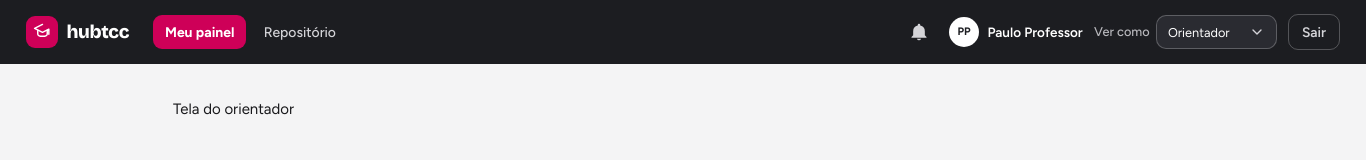
Test case: fluxo de autenticação › com vários papéis, troca de tela pelo seletor e lembra a escolha
Expected: the text "Tela do orientador" is shown, [173,100,294,118]
Select "Coordenação" in the dropdown labelled "Ver como" at (1217, 32), box [1156,15,1277,49]
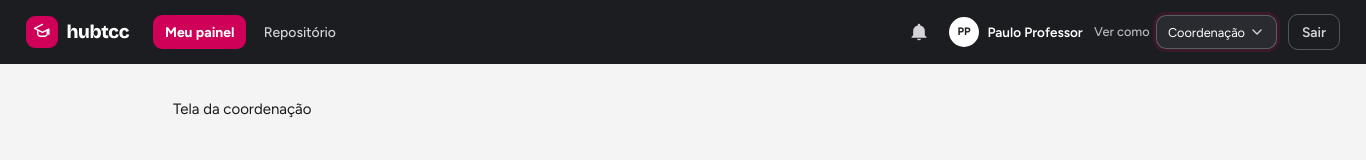
Result: the text "Tela da coordenação" is shown at [173,100,311,118]
